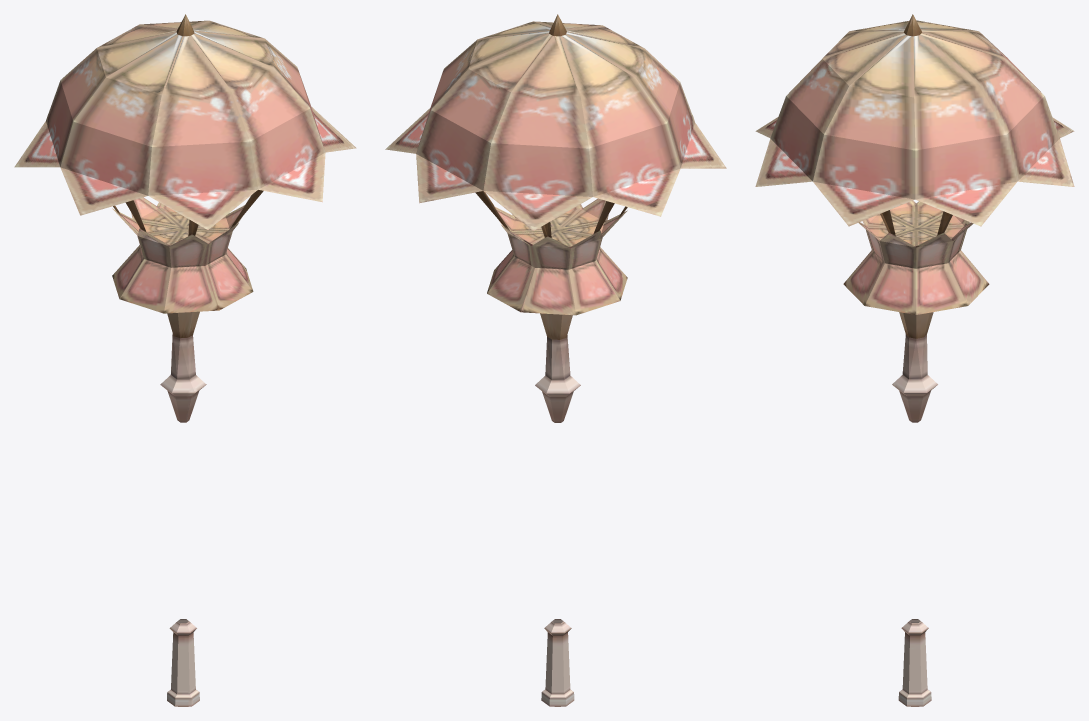
File: Bat_pinkLantern.obj
The picture shows the model from 3 angles, left to right: view 1: azimuth 30°, elevation 25°; view 2: azimuth 150°, elevation 25°; view 3: azimuth 270°, elevation 25°; orthographic projection.
Visible parts, largest first — view 1: Bat_pinkLantern_tri; view 2: Bat_pinkLantern_tri; view 3: Bat_pinkLantern_tri.
Part boxes in pixels (bbox=[...]): Bat_pinkLantern_tri: bbox=[14, 14, 356, 706]; Bat_pinkLantern_tri: bbox=[385, 14, 726, 706]; Bat_pinkLantern_tri: bbox=[755, 14, 1074, 706].
Bounding box in the file's own units: 0.3873 × 0.9283 × 0.3873.
1 material, 1 textured.
